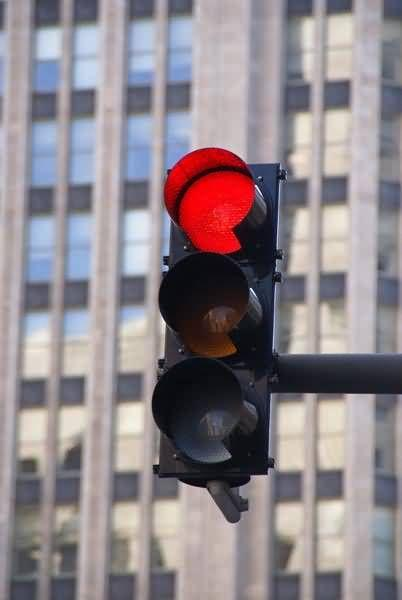red: (133, 123, 309, 514)
